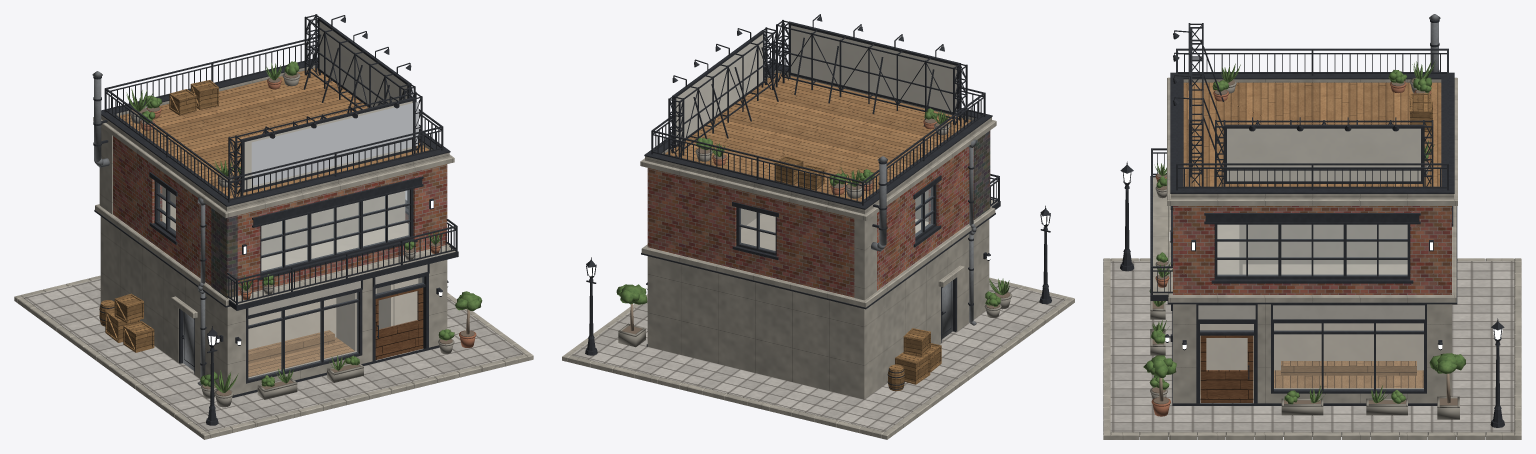
Rendered from shop_brick_rooftop_deck.glb.
3 views of the same model, side by side, from view 1: azimuth 30°, elevation 25°; view 2: azimuth 150°, elevation 25°; view 3: azimuth 270°, elevation 25° (orthographic). The views are drawn at different scales.
Parts seen in each view (by area): view 1: Industrial_Steel_Trim, Concrete_Structure, Sidewalk_Pavers, Wood_Oak_Terrace, Brick_Terracotta_Facade, Display_Interior_Empty, Glass_Storefront_Clear, rooftop_billboard_face, Glass_Upper_Windows, Rooftop_Billboards_Blank, Wood_Crates_Barrel, Plants_3D_Foliage (+7 smaller); view 2: Concrete_Structure, Industrial_Steel_Trim, Brick_Terracotta_Facade, Wood_Oak_Terrace, Sidewalk_Pavers, Rooftop_Billboards_Blank, Wood_Crates_Barrel, Industrial_Galvanized, Plants_3D_Foliage, Glass_Upper_Windows, Brick_Dark_Pilaster, Display_Interior_Empty (+2 smaller); view 3: Industrial_Steel_Trim, Sidewalk_Pavers, Concrete_Structure, Wood_Oak_Terrace, Display_Interior_Empty, Brick_Terracotta_Facade, Glass_Storefront_Clear, Rooftop_Billboards_Blank, Glass_Upper_Windows, Plants_3D_Foliage, Signboard_Fascia_Blank, Planters_Stoneware (+5 smaller).
Boxes of the visible parts, x1,y1,x2,y2 form: Industrial_Steel_Trim: (93,14,458,425); Concrete_Structure: (14,65,533,439); Sidewalk_Pavers: (23,278,524,431); Wood_Oak_Terrace: (118,68,429,377); Brick_Terracotta_Facade: (113,136,447,295); Display_Interior_Empty: (162,186,422,351); Glass_Storefront_Clear: (249,277,423,378); rooftop_billboard_face: (251,101,418,185); Glass_Upper_Windows: (158,183,409,271); Rooftop_Billboards_Blank: (244,21,412,189); Wood_Crates_Barrel: (99,80,218,352); Plants_3D_Foliage: (126,61,482,392); Concrete_Structure: (562,70,1074,439); Industrial_Steel_Trim: (585,14,1051,389); Brick_Terracotta_Facade: (647,147,973,297); Wood_Oak_Terrace: (665,73,970,201); Sidewalk_Pavers: (571,281,1065,432); Rooftop_Billboards_Blank: (676,25,956,144); Wood_Crates_Barrel: (774,156,941,390); Industrial_Galvanized: (871,139,976,339); Plants_3D_Foliage: (616,108,1009,306); Glass_Upper_Windows: (740,187,932,251); Brick_Dark_Pilaster: (974,130,990,219); Display_Interior_Empty: (741,190,928,250); Industrial_Steel_Trim: (1120,19,1504,427); Sidewalk_Pavers: (1110,261,1514,436); Concrete_Structure: (1103,77,1521,439); Wood_Oak_Terrace: (1183,82,1441,388); Display_Interior_Empty: (1200,224,1423,394); Brick_Terracotta_Facade: (1173,206,1451,294); Glass_Storefront_Clear: (1200,324,1423,389); Rooftop_Billboards_Blank: (1227,128,1420,181); Glass_Upper_Windows: (1217,225,1407,275); Plants_3D_Foliage: (1143,60,1465,404); Signboard_Fascia_Blank: (1198,305,1424,319); Planters_Stoneware: (1150,77,1459,419).
Size of the model in its own units: 12.6 by 9.53 by 12.6.
Materials: 22 (15 with a texture image).
